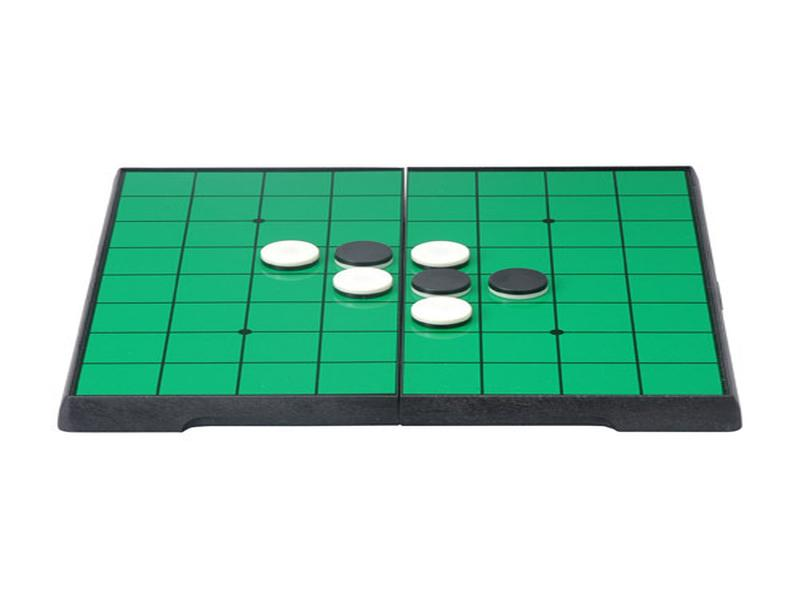black: (482, 259, 556, 306), (404, 258, 481, 302), (325, 230, 402, 273)
white: (395, 289, 492, 335), (249, 228, 327, 276), (405, 235, 485, 274), (327, 262, 404, 302)
